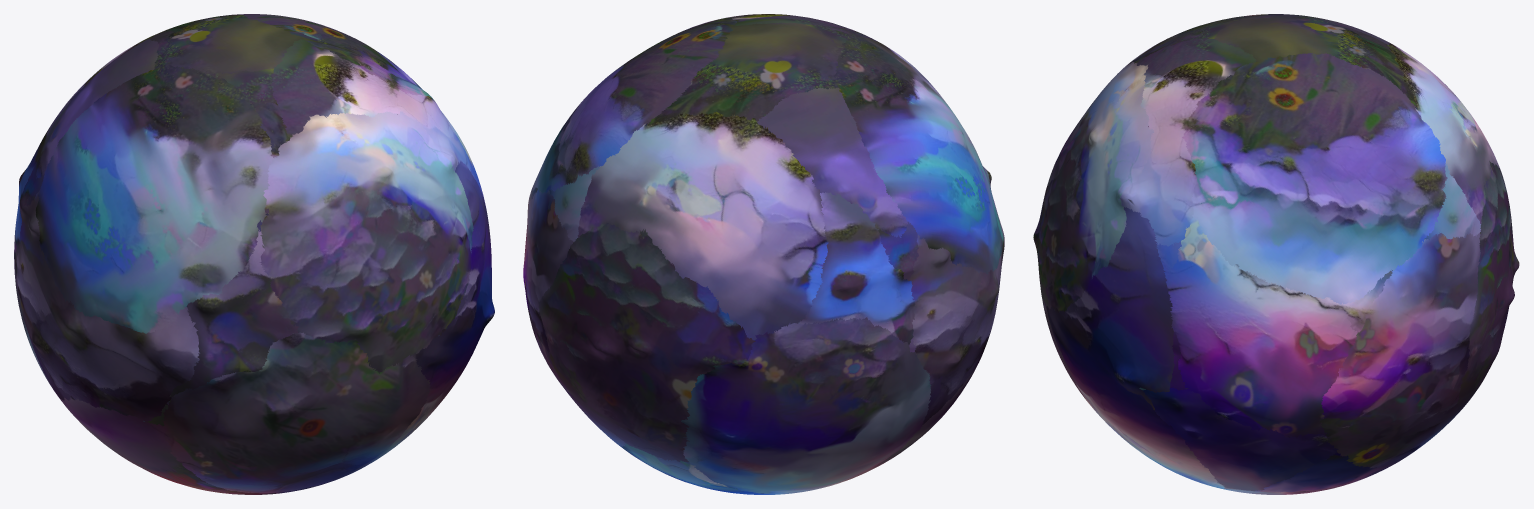
Rendered from sanctuary-planet-ipad.glb.
3 renders of one model, left to right at view 1: azimuth 30°, elevation 25°; view 2: azimuth 150°, elevation 25°; view 3: azimuth 270°, elevation 25°, orthographic.
Visible parts, largest first — view 1: node_0; view 2: node_0; view 3: node_0.
Part boxes in pixels (x1,y1,x2,y2): node_0: [14, 14, 494, 494]; node_0: [523, 14, 1004, 494]; node_0: [1033, 14, 1519, 494].
Size of the model in its own units: 1.17 by 1.15 by 1.16.
1 material, 1 textured.
